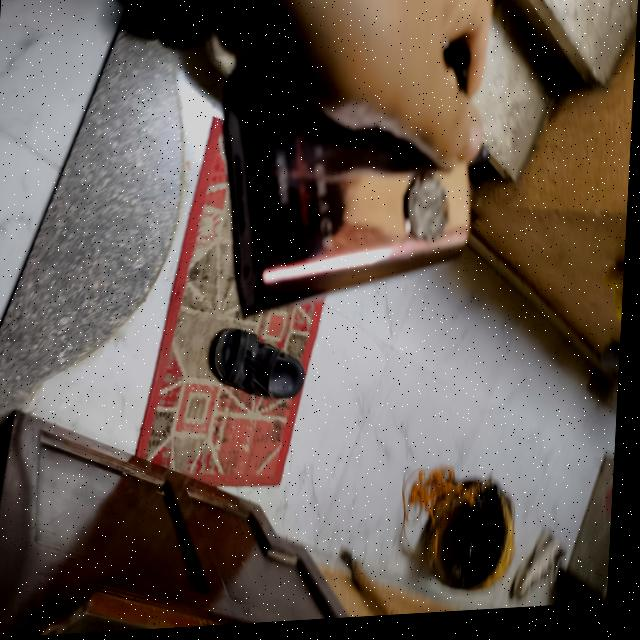Afnan: (214, 45, 488, 323)
